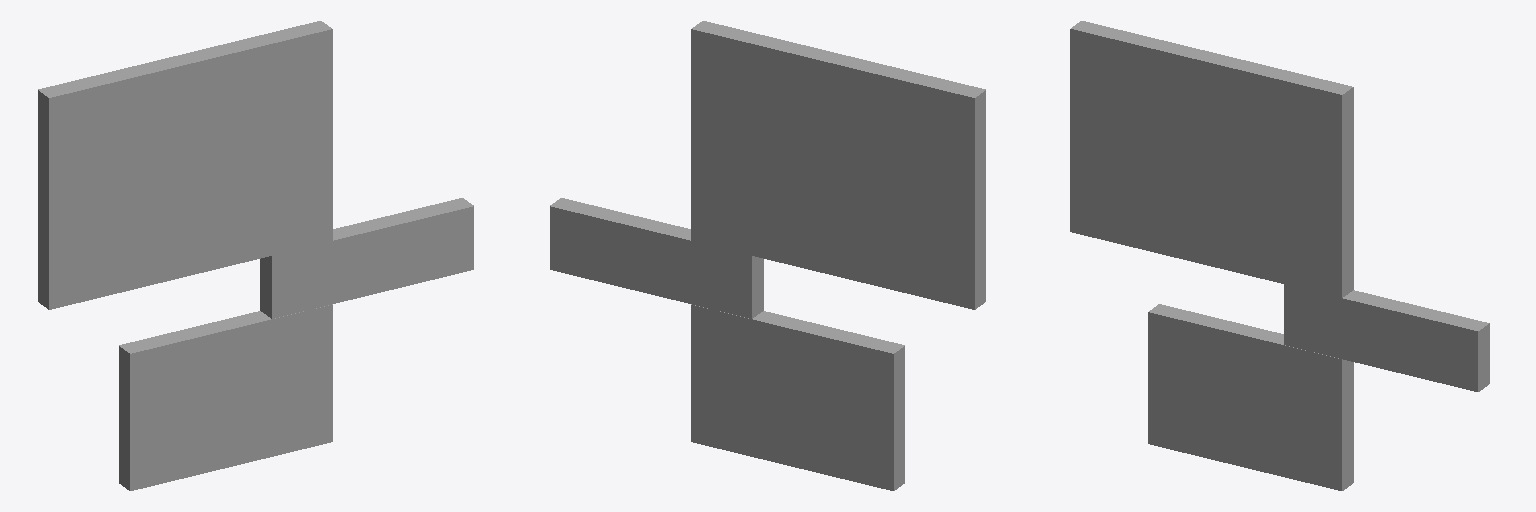
robot.urdf — narrow_tunnel:
<robot name="narrow_tunnel">
  <link name="narrow_tunnel_base_link">
    <visual>
      <origin rpy="0 0 3.14159" xyz="0 0 0"/>
      <geometry>
        <mesh filename="narrow_tunnel.obj"  scale="0.0008 0.0008 0.0008"/>
      </geometry>
      <material name="tray_material">
        <color rgba="0.7 0.7 0.7 1"/>
      </material>
    </visual>
    <collision>
      <origin rpy="0 0 3.14159" xyz="0 0 0"/>
      <geometry>
        <mesh filename="narrow_tunnel.obj" scale="0.0008 0.0008 0.0008"/>
      </geometry>
    </collision>
  </link>
</robot>

--- Render facts (derived) ---
3 views of the same robot in one strip: view 1: azimuth 30°, elevation 25°; view 2: azimuth 150°, elevation 25°; view 3: azimuth 330°, elevation 25° (orthographic).
Robot: narrow_tunnel — 1 links, 0 joints (none); root link narrow_tunnel_base_link; default pose: all joints at 0.
Links seen in each view (by area): view 1: narrow_tunnel_base_link; view 2: narrow_tunnel_base_link; view 3: narrow_tunnel_base_link.
Boxes of the visible links, left/top/right/bottom form: narrow_tunnel_base_link: left=38, top=21, right=473, bottom=490; narrow_tunnel_base_link: left=550, top=21, right=985, bottom=490; narrow_tunnel_base_link: left=1070, top=21, right=1489, bottom=490.
Bounding box of the posed robot: 1.68 × 0.08 × 1.56 m (x, y, z).
Meshes: 1 distinct files referenced, 1 mesh visuals loaded (1 OBJ).